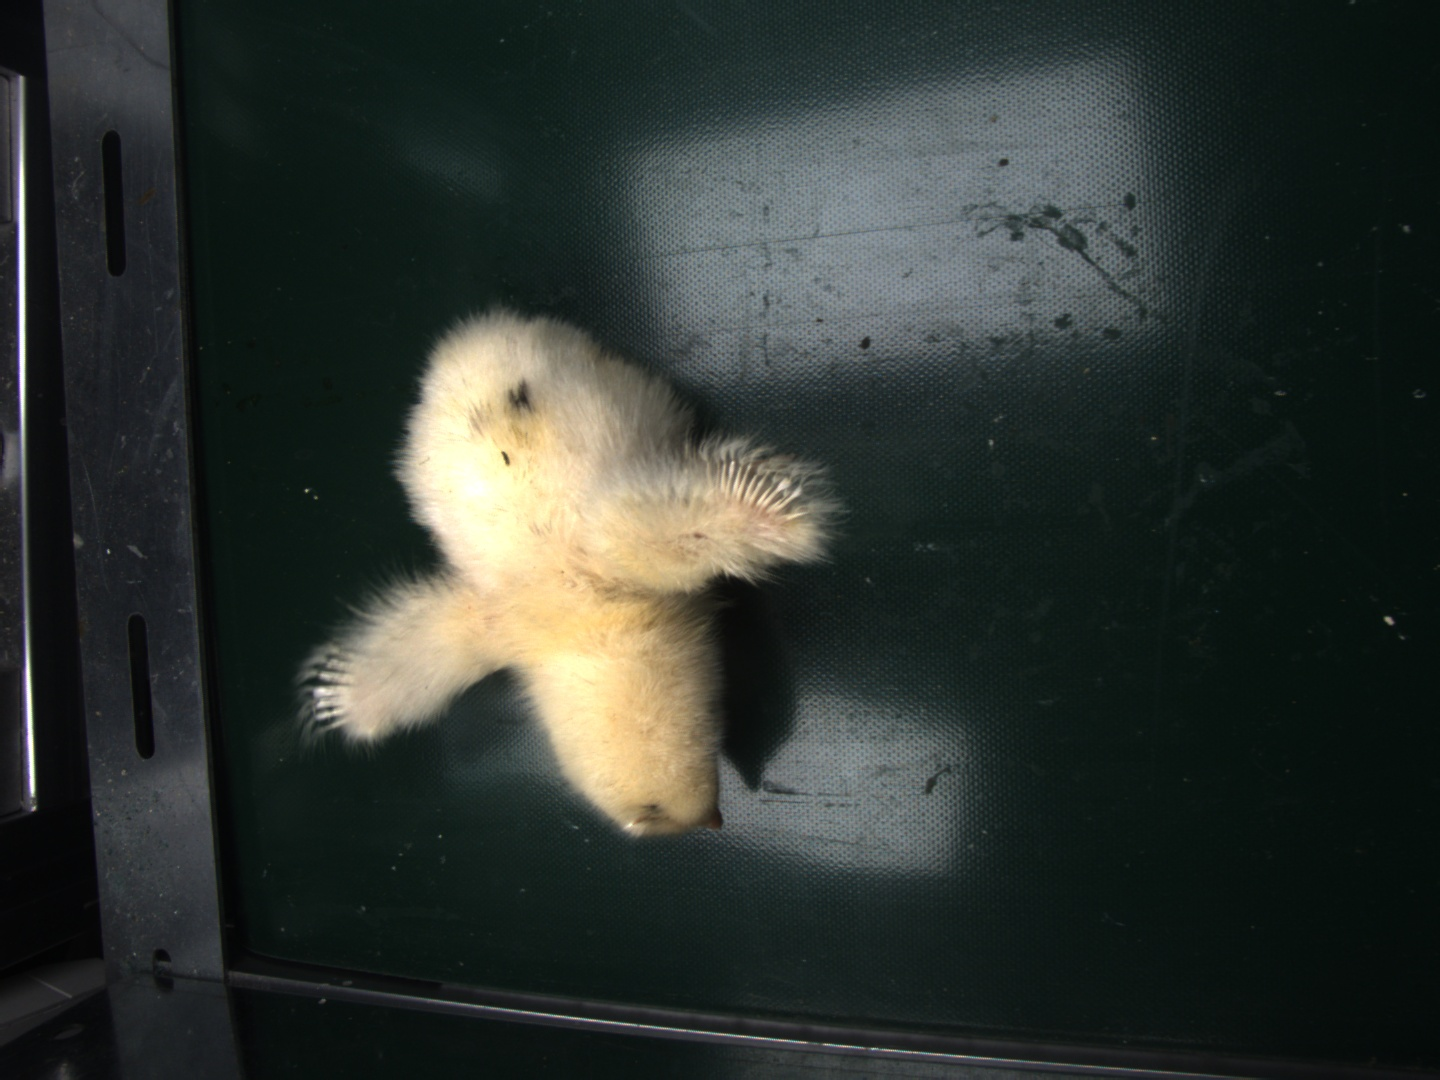male: (710, 457, 802, 518)
